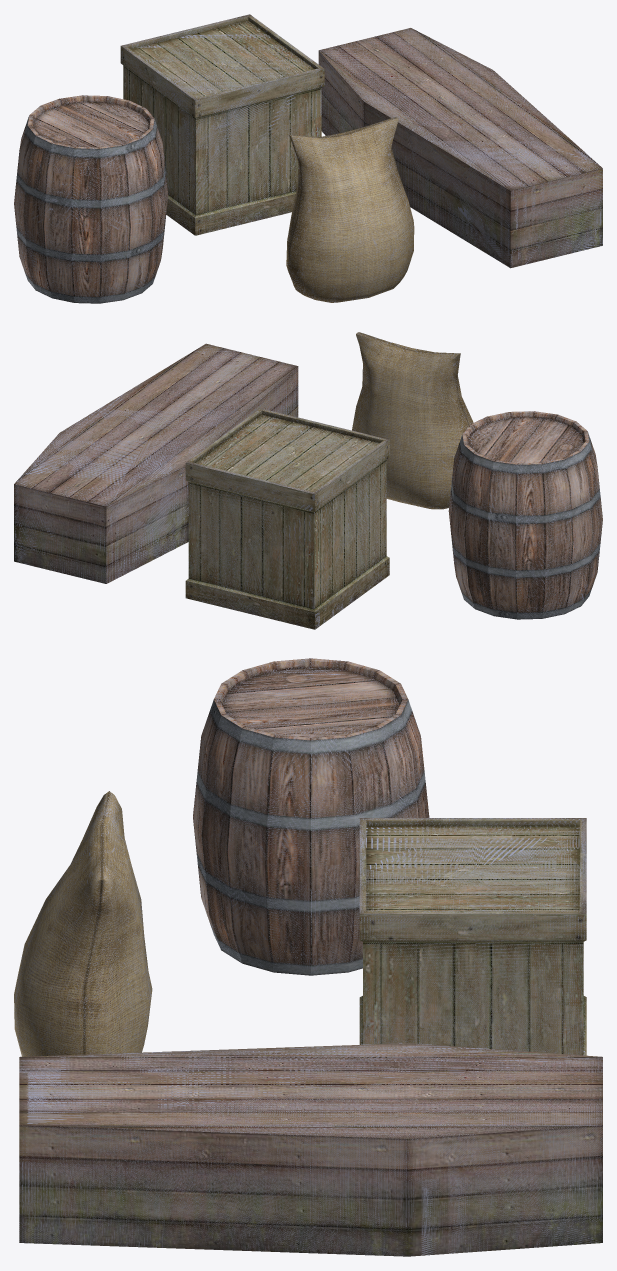
File: MiscStuff.dae
The picture shows the model from 3 angles, top to bottom: view 1: azimuth 30°, elevation 25°; view 2: azimuth 150°, elevation 25°; view 3: azimuth 270°, elevation 25°; orthographic projection. The views are drawn at different scales.
Parts seen in each view (by area): view 1: CoffinBox01, SquareBox01, Barrel, GrainSack01; view 2: SquareBox01, CoffinBox01, Barrel, GrainSack01; view 3: CoffinBox01, Barrel, SquareBox01, GrainSack01.
Part boxes in pixels (left/top/right/bottom): CoffinBox01: left=318, top=28, right=602, bottom=268; SquareBox01: left=120, top=14, right=324, bottom=235; Barrel: left=14, top=95, right=168, bottom=303; GrainSack01: left=286, top=117, right=414, bottom=302; SquareBox01: left=185, top=408, right=389, bottom=629; CoffinBox01: left=14, top=343, right=298, bottom=583; Barrel: left=448, top=411, right=602, bottom=619; GrainSack01: left=352, top=332, right=473, bottom=509; CoffinBox01: left=19, top=1043, right=602, bottom=1256; Barrel: left=193, top=658, right=429, bottom=975; SquareBox01: left=359, top=818, right=586, bottom=1055; GrainSack01: left=14, top=791, right=152, bottom=1056.
Size of the model in its own units: 107 by 71.5 by 32.41.
